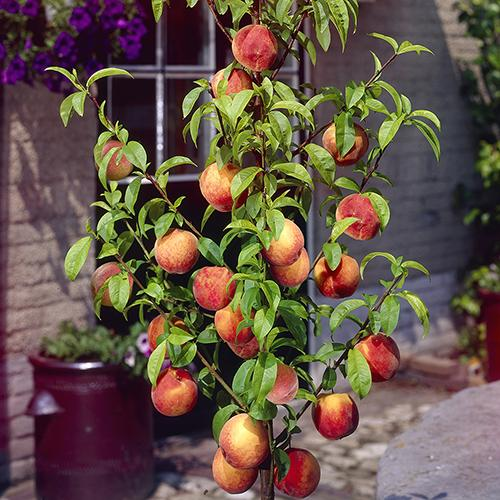Peach leaf: (138, 341, 170, 398), (61, 229, 93, 283), (303, 142, 338, 191), (226, 165, 267, 205), (101, 269, 129, 325), (347, 342, 372, 398), (324, 299, 369, 330), (85, 64, 138, 89), (252, 351, 275, 407), (335, 106, 355, 161), (177, 86, 209, 119), (227, 89, 256, 125), (270, 161, 315, 184), (381, 291, 403, 337), (259, 276, 281, 322), (320, 236, 347, 273), (376, 111, 403, 147), (124, 140, 152, 174), (263, 207, 287, 245), (198, 234, 224, 268), (252, 307, 272, 347), (155, 207, 173, 241)
